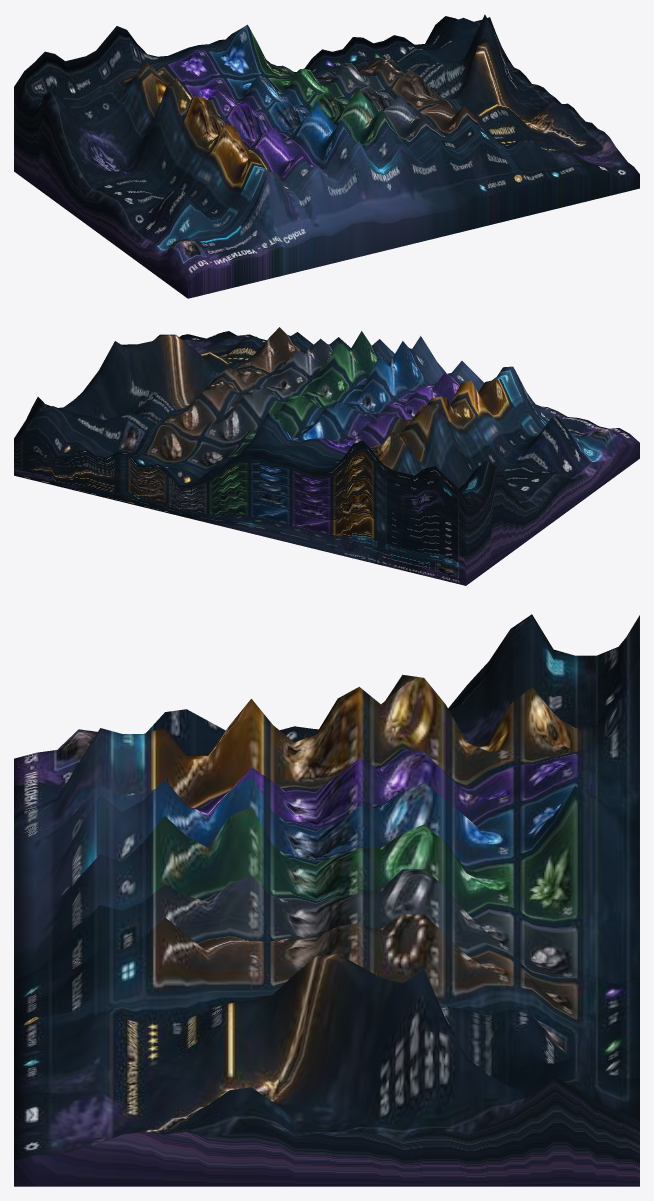
The model's file is UI_02_Inventory.glb.
3 renders of one model, top to bottom at view 1: azimuth 30°, elevation 25°; view 2: azimuth 150°, elevation 25°; view 3: azimuth 270°, elevation 25°, orthographic. The views are drawn at different scales.
Parts seen in each view (by area): view 1: UI_02_Inventory; view 2: UI_02_Inventory; view 3: UI_02_Inventory.
Part boxes in pixels (x1,y1,x2,y2): UI_02_Inventory: (14,14,639,298); UI_02_Inventory: (14,327,639,585); UI_02_Inventory: (14,614,639,1186).
Bounding box in the file's own units: 2 × 0.51 × 1.33.
1 material, 1 textured.
